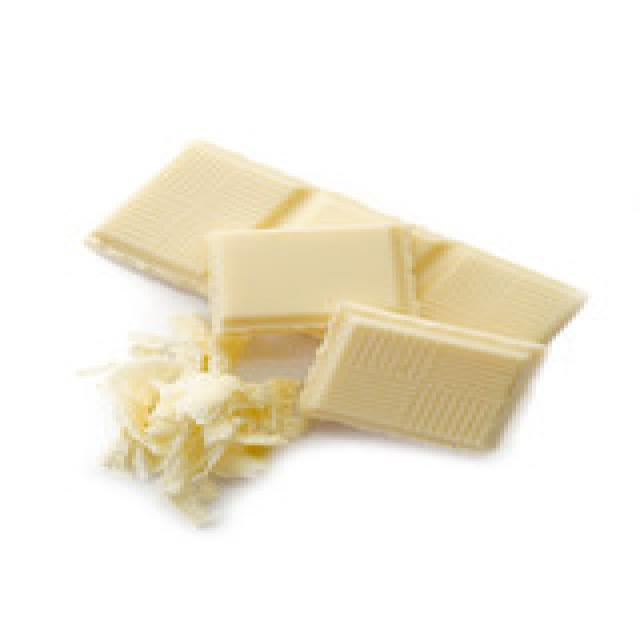Chocolate: (94, 141, 586, 367), (290, 300, 548, 453), (198, 216, 435, 344)
